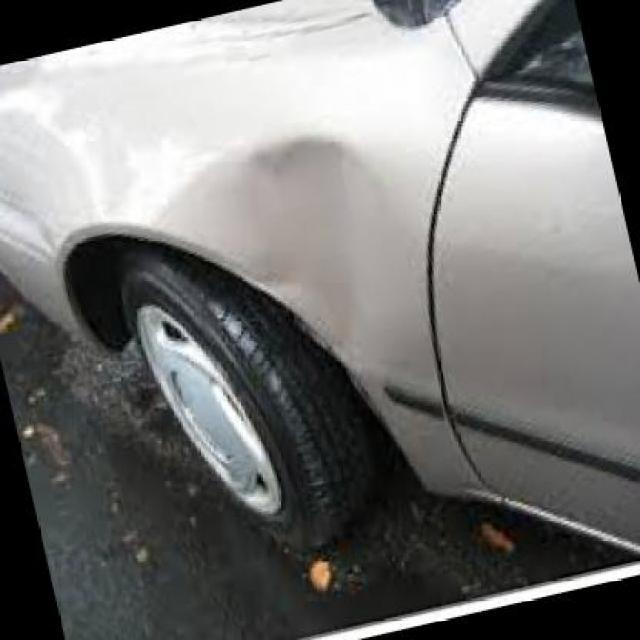dent: (157, 135, 392, 360)
